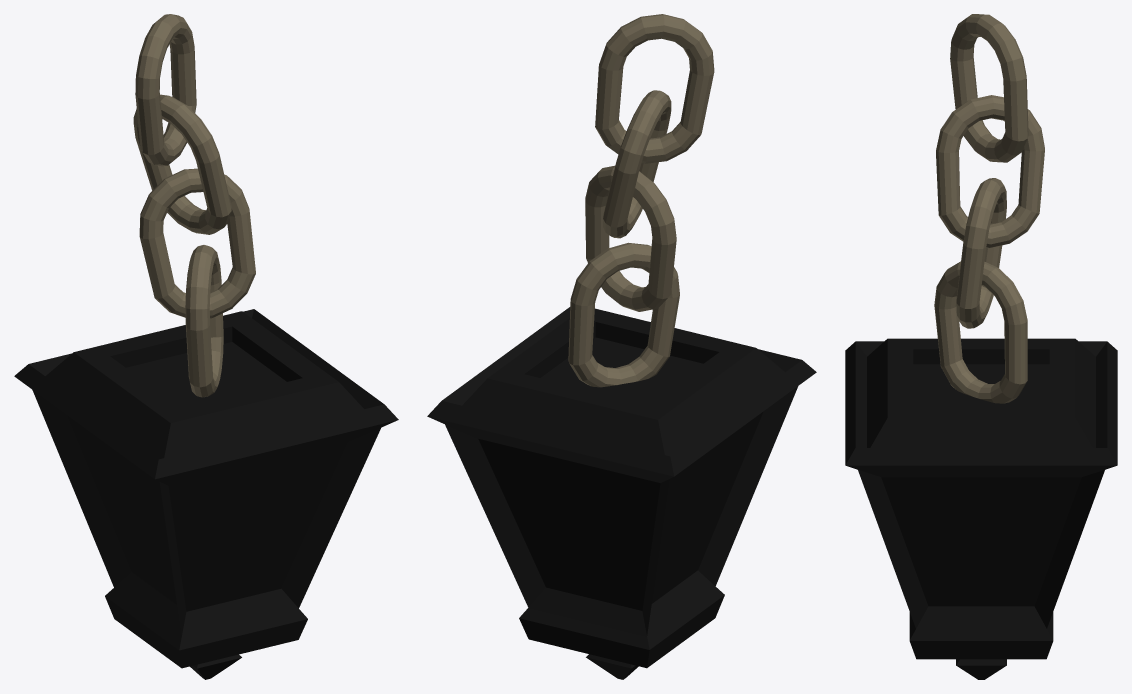
File: lampara.fbx
3 views of the same model, side by side, from view 1: azimuth 30°, elevation 25°; view 2: azimuth 150°, elevation 25°; view 3: azimuth 270°, elevation 25° (orthographic). The views are drawn at different scales.
Parts seen in each view (by area): view 1: Cube, Torus; view 2: Cube, Torus; view 3: Cube, Torus.
Part boxes in pixels (x1=…): Cube: x1=14, y1=309, x2=398, y2=679; Torus: x1=133, y1=14, x2=255, y2=397; Cube: x1=427, y1=307, x2=816, y2=679; Torus: x1=568, y1=14, x2=714, y2=387; Cube: x1=845, y1=338, x2=1117, y2=679; Torus: x1=934, y1=14, x2=1044, y2=403.
Size of the model in its own units: 161 by 419 by 161.
